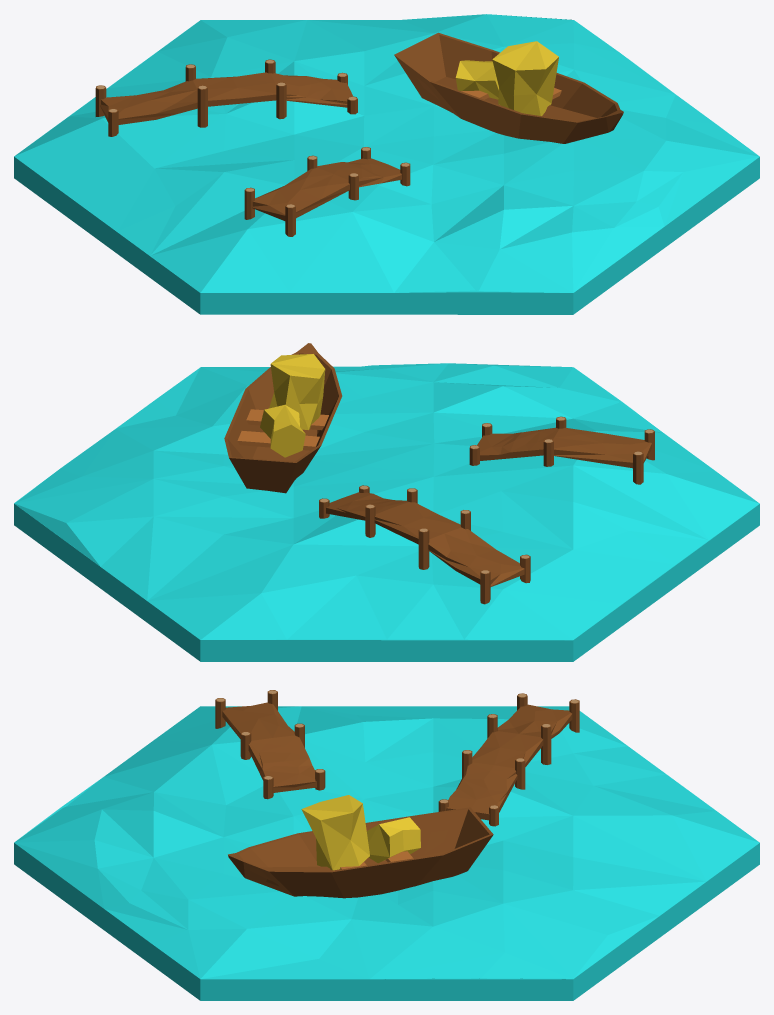
Rendered from wheatPort.fbx.
3 views of the same model, one above another, from view 1: azimuth 30°, elevation 25°; view 2: azimuth 150°, elevation 25°; view 3: azimuth 270°, elevation 25° (orthographic).
Visible parts, largest first — view 1: Cylinder.010; view 2: Cylinder.010; view 3: Cylinder.010.
Part boxes in pixels (left/top/right/bottom): Cylinder.010: left=14, top=14, right=759, bottom=314; Cylinder.010: left=14, top=343, right=759, bottom=661; Cylinder.010: left=14, top=690, right=759, bottom=1000.
Bounding box in the file's own units: 173 × 34.58 × 200.
